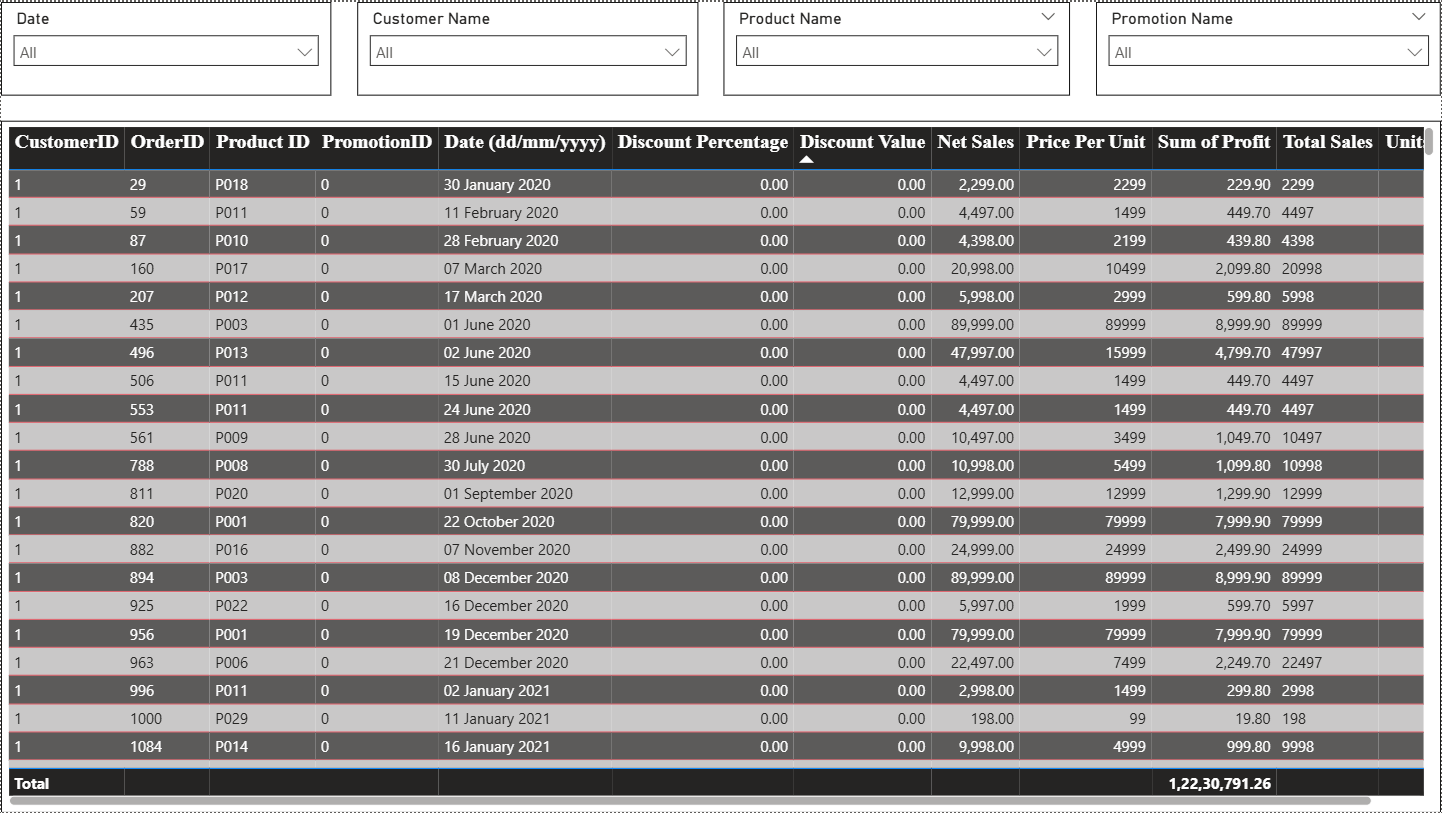

The page's visual inventory and layout, read from the dashboard file:
{"tool":"powerbi","page":{"name":"Table Visual","canvas":[1280,720],"ordinal":4},"visuals":[{"type":"tableEx","fields":{"Values":["Fact Table.CustomerID","Fact Table.OrderID","Fact Table.Product ID","Fact Table.PromotionID","Fact Table.Date (dd/mm/yyyy)","Fact Table.Discount Percentage","Fact Table.Discount Value","Fact Table.Net Sales","Fact Table.Price Per Unit","Sum(Fact Table.Profit)","Fact Table.Total Sales","Fact Table.Units Sold"]},"box":[0,105,1280,615],"z":0},{"type":"slicer","fields":{"Values":["Date Table 1.Date"]},"box":[0,0,293.3,83.3],"z":1000},{"type":"slicer","fields":{"Values":["Dim Customers.Customer Name"]},"box":[316.1,0,303.3,83.3],"z":2000},{"type":"slicer","fields":{"Values":["Dim Product.Product Name"]},"box":[642.2,0,308.3,83.3],"z":3000},{"type":"slicer","fields":{"Values":["Dim Promotion.Promotion Name"]},"box":[973.3,0,306.7,83.3],"z":4000}]}

Visuals, with their boxes in screenshot pixels (x1, y1, x2, y2), scaled from the page's 1280x720 canvas onto the 1442x813 screenshot:
tableEx - Fact Table.CustomerID x Fact Table.OrderID: <box>0,119,1441,812</box>
slicer - Date Table 1.Date: <box>0,0,330,94</box>
slicer - Dim Customers.Customer Name: <box>356,0,698,94</box>
slicer - Dim Product.Product Name: <box>723,0,1071,94</box>
slicer - Dim Promotion.Promotion Name: <box>1096,0,1441,94</box>
